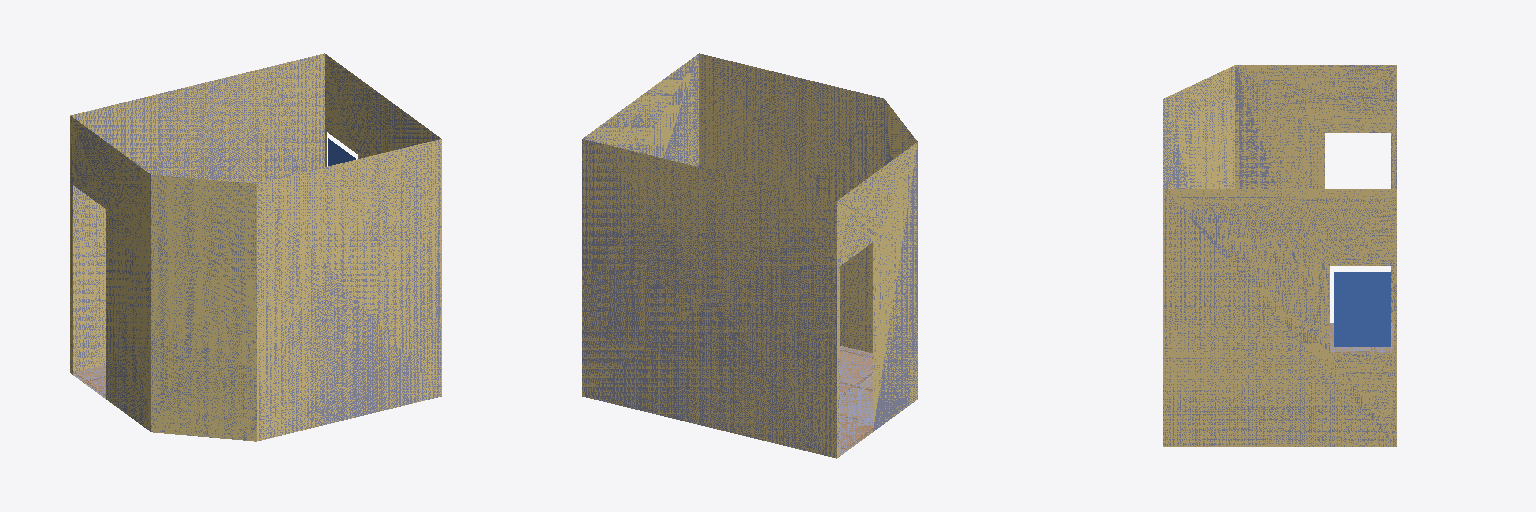
3 renders of one model, left to right at view 1: azimuth 30°, elevation 25°; view 2: azimuth 150°, elevation 25°; view 3: azimuth 270°, elevation 25°, orthographic.
Visible parts, largest first — view 1: Mesh1 DES051 Model; view 2: Mesh1 DES051 Model; view 3: Mesh1 DES051 Model, Mesh2 DES051 Model.
Part boxes in pixels (left/top/right/bottom): Mesh1 DES051 Model: left=70, top=53, right=441, bottom=441; Mesh1 DES051 Model: left=582, top=53, right=917, bottom=458; Mesh1 DES051 Model: left=1163, top=65, right=1396, bottom=446; Mesh2 DES051 Model: left=1334, top=272, right=1390, bottom=346.
Size of the model in its own units: 3.1 by 3 by 2.47.
Materials: 4 (1 with a texture image).